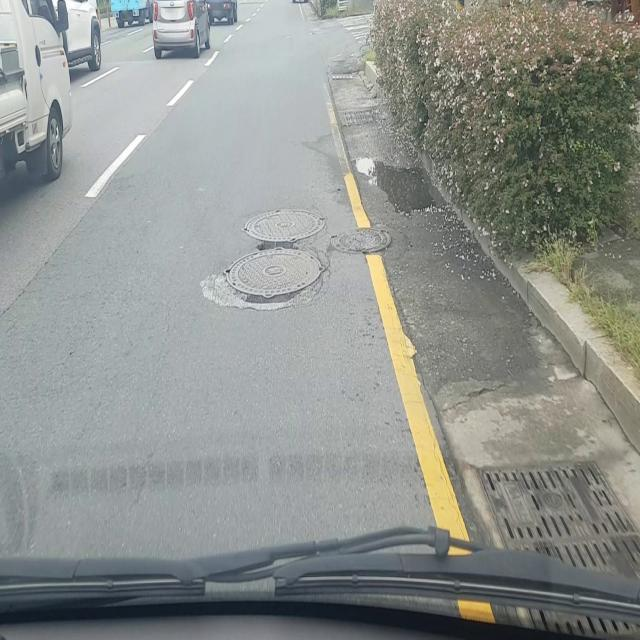Pothole: (222, 248, 327, 308), (241, 194, 327, 248)
